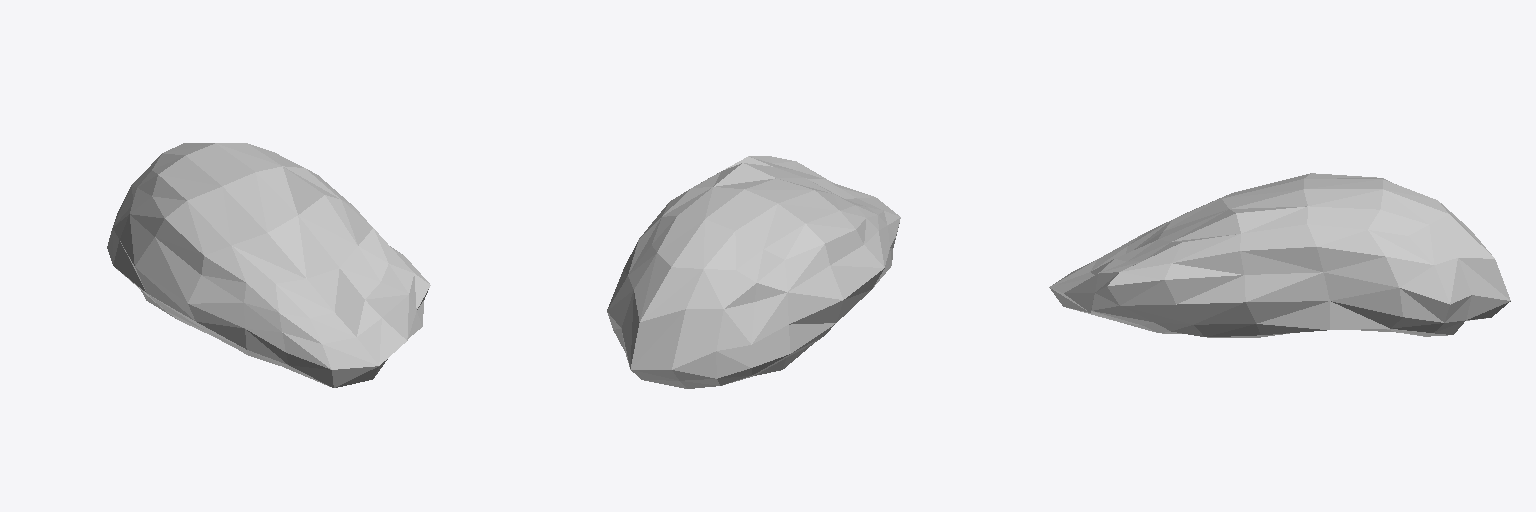
File: rock11.obj
3 views of the same model, side by side, from view 1: azimuth 30°, elevation 25°; view 2: azimuth 150°, elevation 25°; view 3: azimuth 270°, elevation 25° (orthographic).
Visible parts, largest first — view 1: Mesh; view 2: Mesh; view 3: Mesh.
Part boxes in pixels (bbox=[...]): Mesh: bbox=[107, 143, 430, 387]; Mesh: bbox=[607, 156, 900, 388]; Mesh: bbox=[1049, 173, 1510, 337].
Bounding box in the file's own units: 2.27 × 1.6 × 4.62.